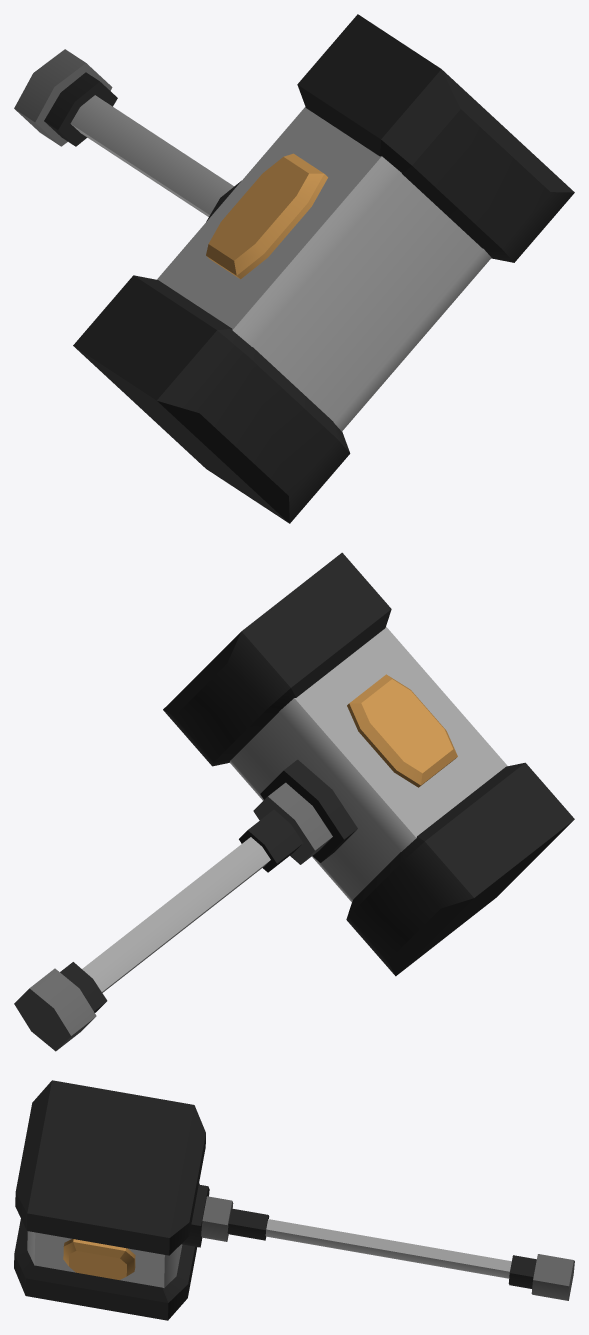
Rendered from Hammer.fbx.
3 renders of one model, top to bottom at view 1: azimuth 30°, elevation 25°; view 2: azimuth 150°, elevation 25°; view 3: azimuth 270°, elevation 25°, orthographic. The views are drawn at different scales.
Visible parts, largest first — view 1: Hammer; view 2: Hammer; view 3: Hammer.
Part boxes in pixels (box(x1,y1,x2,y2)): Hammer: box(14, 14, 574, 523); Hammer: box(14, 552, 574, 1051); Hammer: box(14, 1080, 574, 1320).
Size of the model in its own units: 3.11 by 3 by 5.24.
